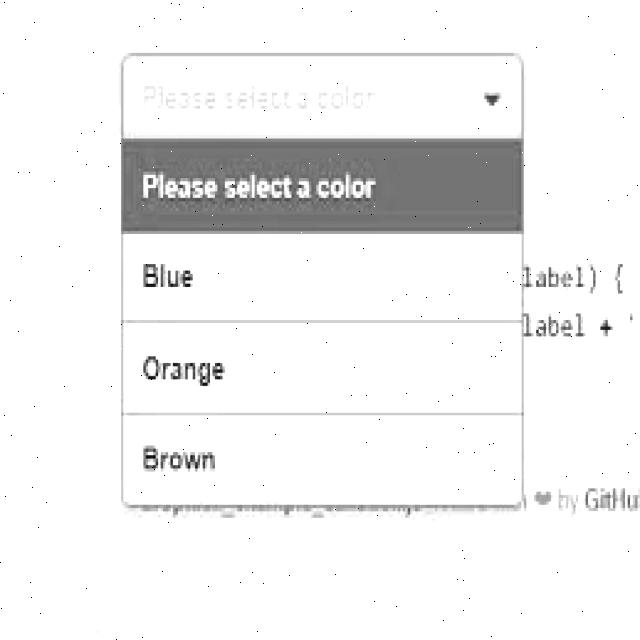dropdownMenu: (122, 56, 522, 512)
menuItem: (133, 160, 385, 212), (136, 348, 236, 393), (136, 434, 226, 482), (133, 251, 203, 297)
